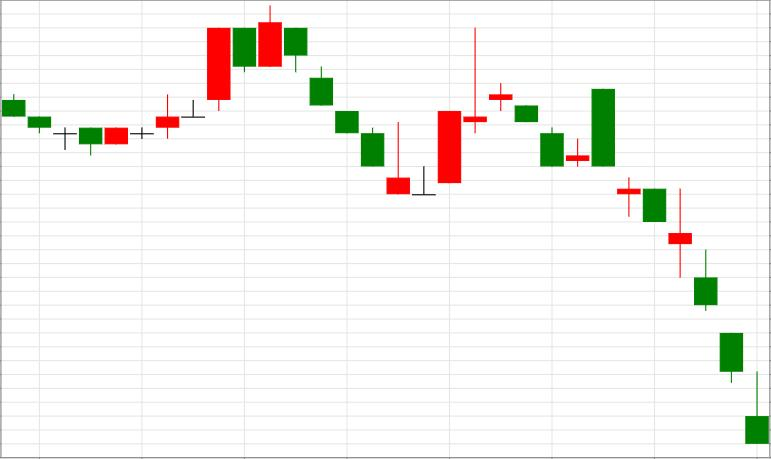inverse_hammer_rise: (592, 89, 770, 443)
